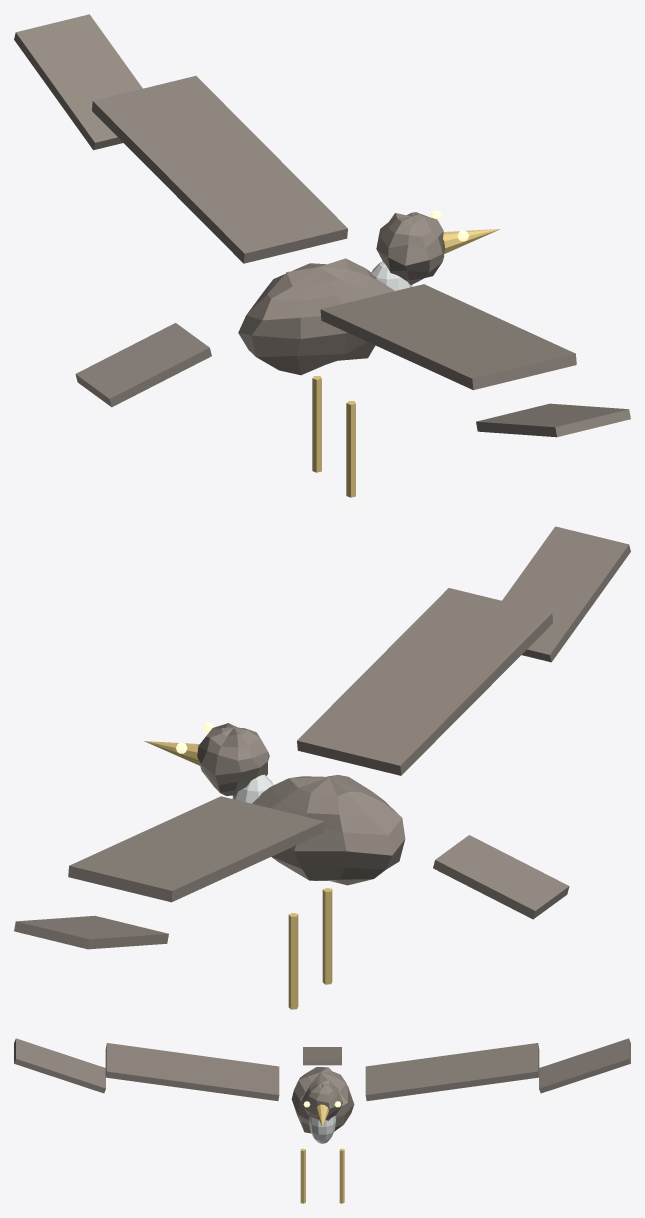
Rendered from vulture.glb.
The picture shows the model from 3 angles, top to bottom: view 1: azimuth 30°, elevation 25°; view 2: azimuth 150°, elevation 25°; view 3: azimuth 270°, elevation 25°; orthographic projection. The views are drawn at different scales.
Visible parts, largest first — view 1: wpanel, wpanel.001, body, wtip, tail0, skull, wtip.001, leg, leg.001; view 2: wpanel.001, wpanel, body, wtip.001, tail0, skull, wtip, leg, leg.001; view 3: wpanel, wpanel.001, wtip, wtip.001, body, skull, tail0, neck, leg, leg.001.
Part boxes in pixels (left/top/right/bottom): wpanel: left=92, top=76, right=347, bottom=263; wpanel.001: left=320, top=284, right=576, bottom=390; body: left=238, top=258, right=394, bottom=375; wtip: left=14, top=14, right=142, bottom=150; tail0: left=75, top=323, right=211, bottom=407; skull: left=376, top=212, right=444, bottom=284; wtip.001: left=476, top=403, right=630, bottom=437; leg: left=346, top=401, right=355, bottom=497; leg.001: left=312, top=376, right=321, bottom=472; wpanel.001: left=297, top=588, right=552, bottom=775; wpanel: left=68, top=796, right=324, bottom=902; body: left=252, top=775, right=405, bottom=885; wtip.001: left=502, top=526, right=630, bottom=662; tail0: left=433, top=835, right=569, bottom=919; skull: left=197, top=723, right=269, bottom=795; wtip: left=14, top=915, right=168, bottom=949; leg: left=322, top=888, right=332, bottom=984; leg.001: left=288, top=913, right=298, bottom=1009; wpanel: left=365, top=1043, right=539, bottom=1100; wpanel.001: left=105, top=1043, right=279, bottom=1100; wtip: left=539, top=1038, right=630, bottom=1093; wtip.001: left=14, top=1038, right=105, bottom=1093; body: left=291, top=1067, right=354, bottom=1133; skull: left=301, top=1079, right=342, bottom=1120; tail0: left=303, top=1047, right=341, bottom=1065; neck: left=309, top=1116, right=335, bottom=1143; leg: left=300, top=1148, right=305, bottom=1203; leg.001: left=339, top=1148, right=344, bottom=1203.
Size of the model in its own units: 2.42 by 1.5 by 5.57.
